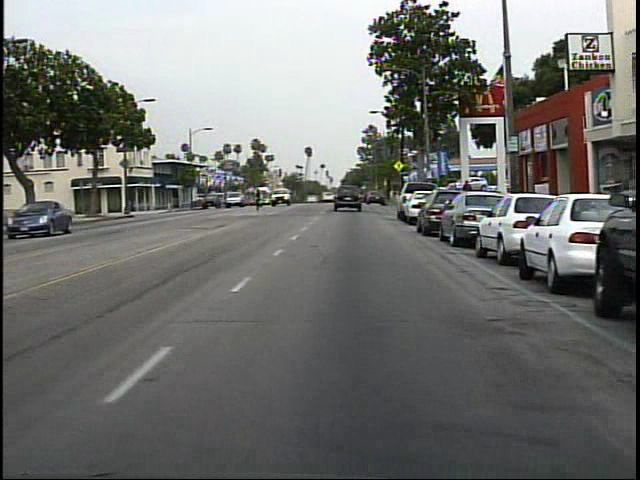person: (458, 176, 477, 218), (252, 183, 270, 213)
